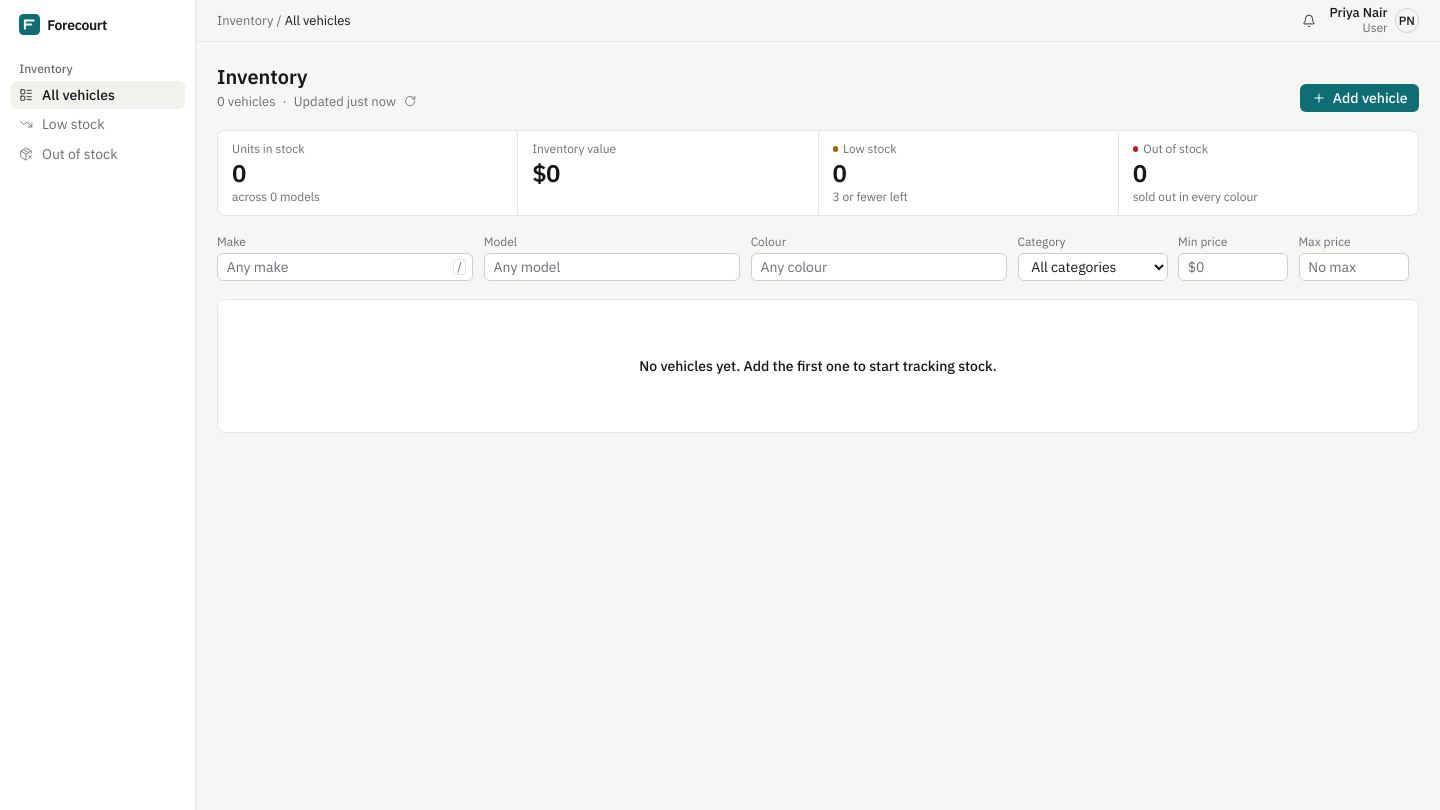
Test: adding colours › removes a colour row and returns to a single total when none are left
Click the button "Add vehicle" at [1360, 98], box x1=1300 y1=84 x2=1419 y2=112
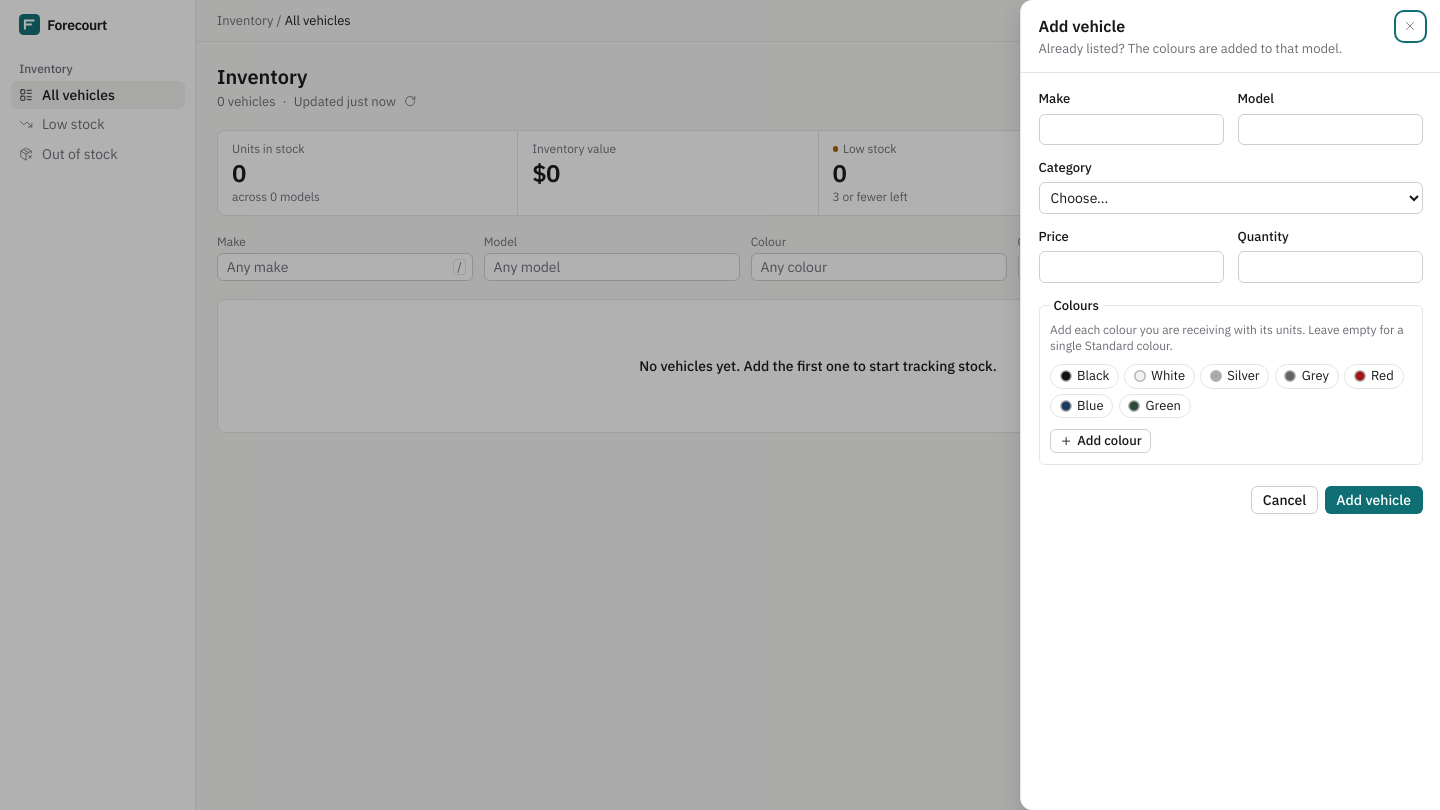
Click the button "Black" at [1085, 376], box x1=1050 y1=364 x2=1119 y2=388
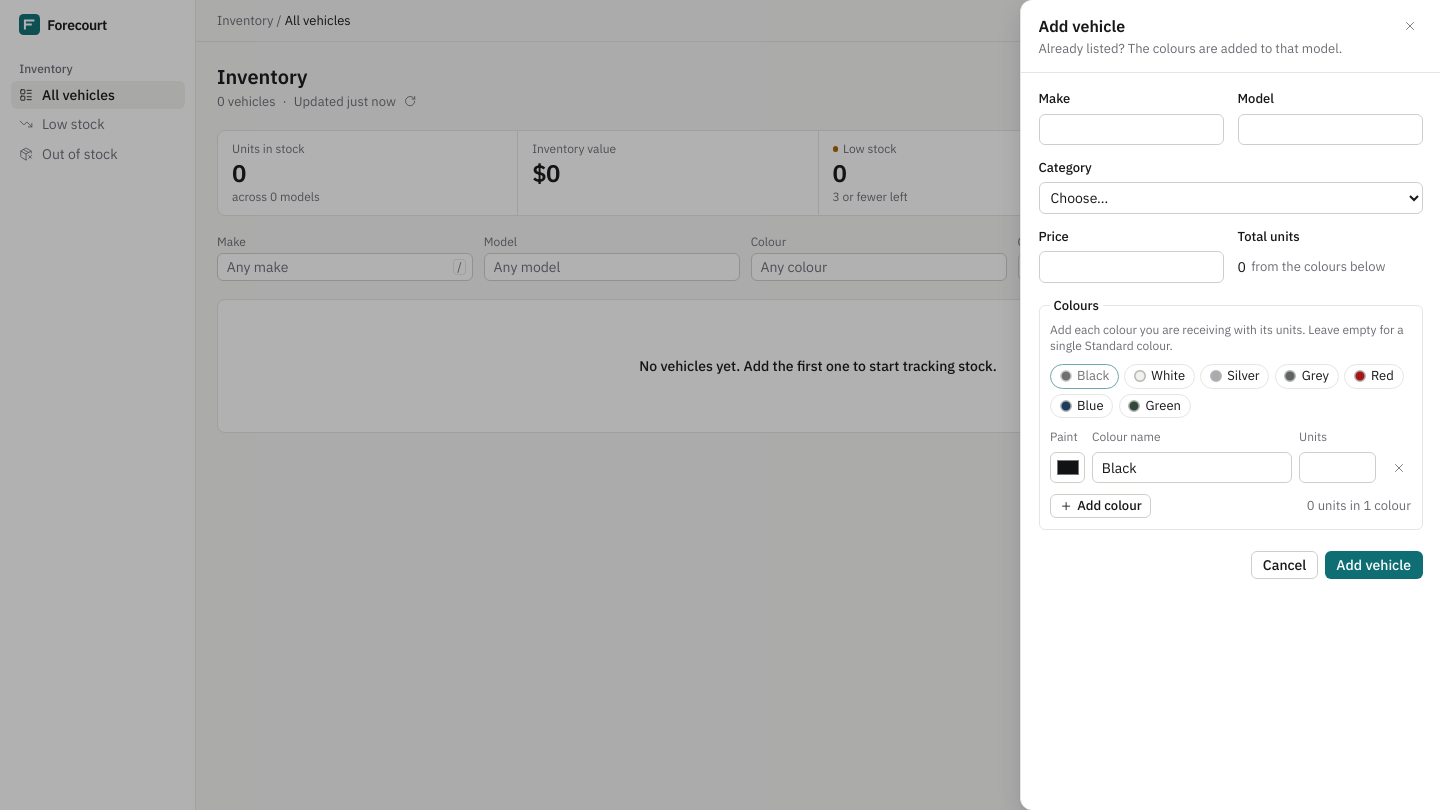
Click the button "White" at [1160, 376], box x1=1124 y1=364 x2=1195 y2=388
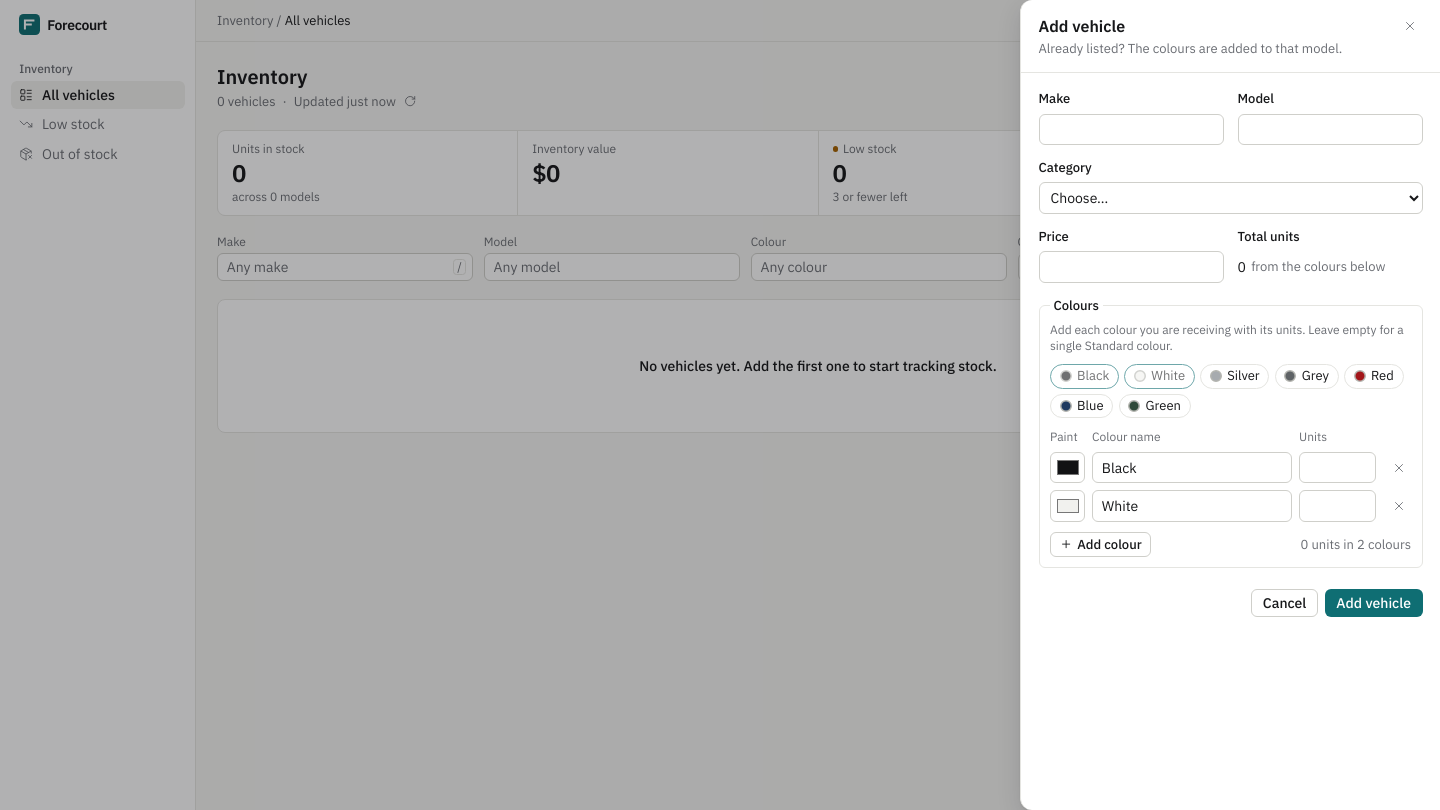
Click the button named "Remove colour 1" at [1399, 468], box x1=1383 y1=452 x2=1414 y2=483
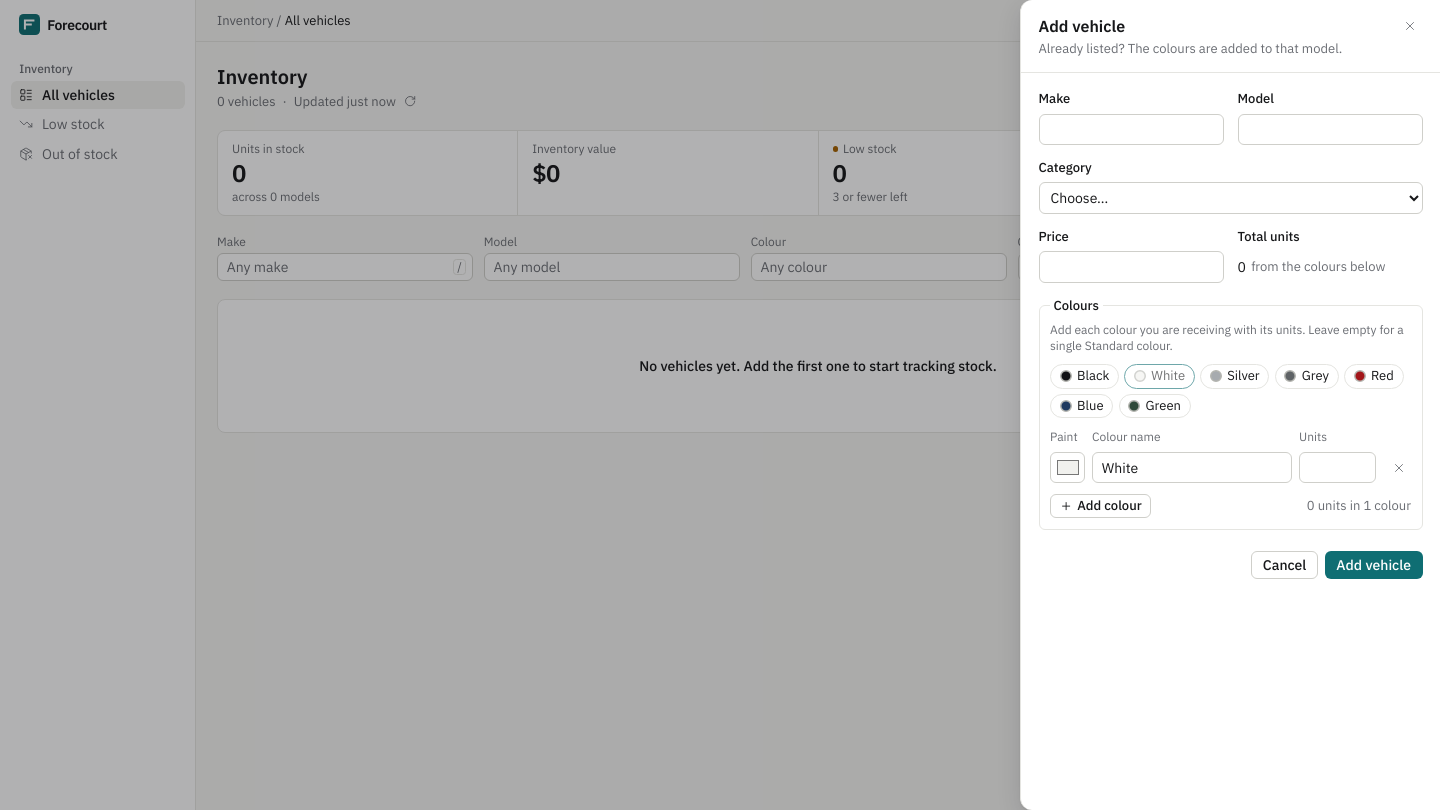
expect the field named "Colour 1 name" holds "White": met, box x1=1092 y1=452 x2=1292 y2=483
Click the button named "Remove colour 1" at [1399, 468], box x1=1383 y1=452 x2=1414 y2=483
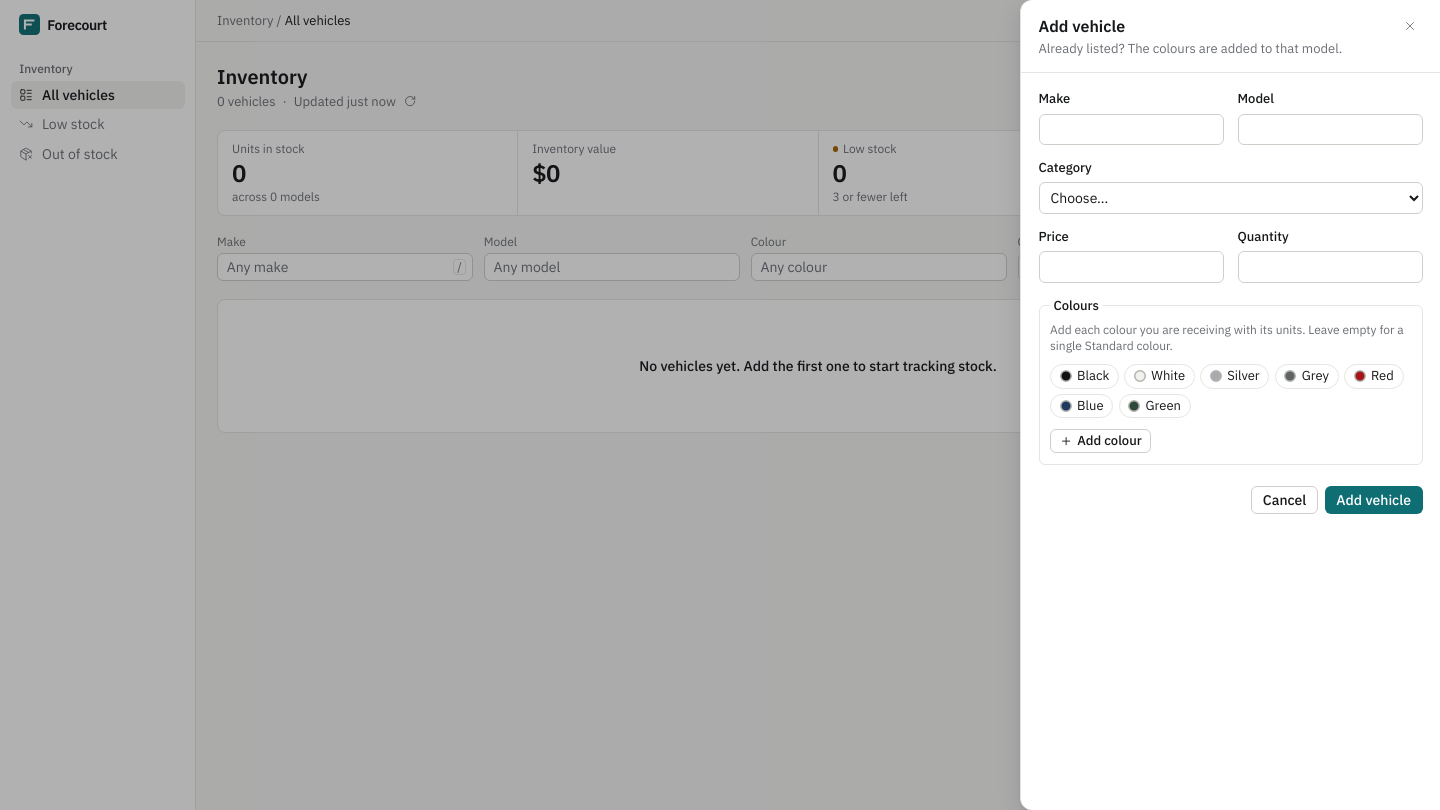
expect the number field labelled "Quantity" is shown: met, box x1=1238 y1=251 x2=1422 y2=282
